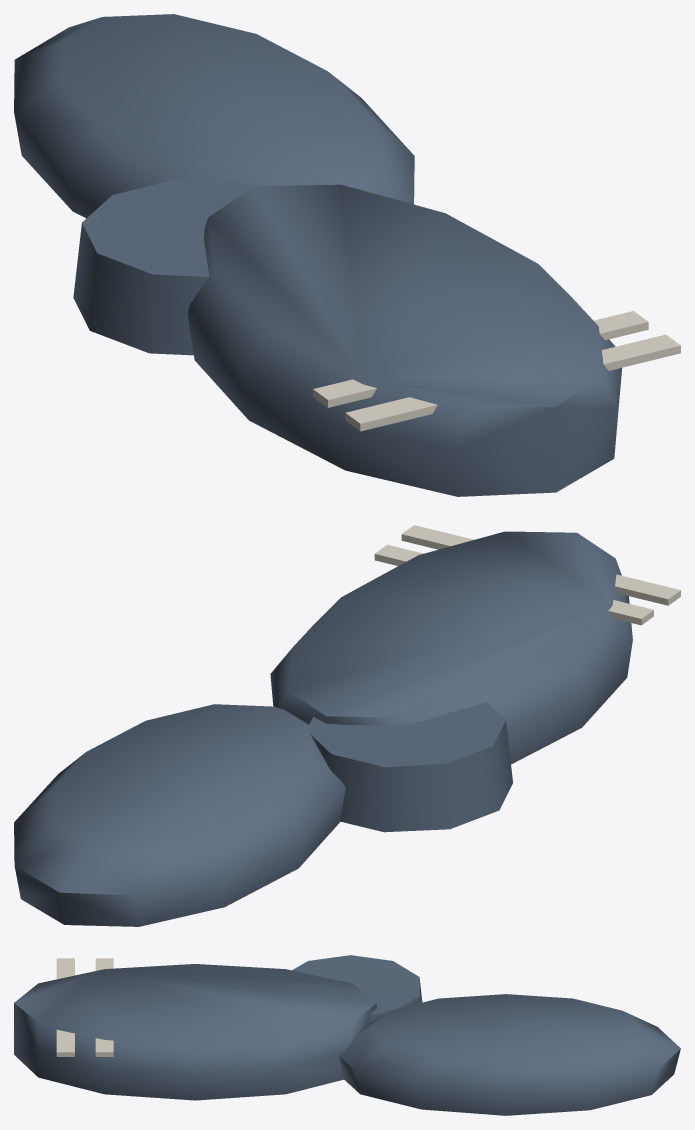
Rendered from sock.glb.
3 views of the same model, one above another, from view 1: azimuth 30°, elevation 25°; view 2: azimuth 150°, elevation 25°; view 3: azimuth 270°, elevation 25° (orthographic). The views are drawn at different scales.
Parts seen in each view (by area): view 1: sock; view 2: sock; view 3: sock.
Boxes of the visible parts, x1=… form: sock: x1=14, y1=14, x2=680, y2=496; sock: x1=14, y1=525, x2=680, y2=926; sock: x1=14, y1=955, x2=680, y2=1115.
Size of the model in its own units: 0.1043 by 0.0214 by 0.25.
